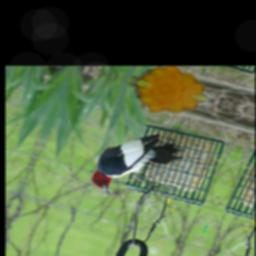Woodpecker: (86, 122, 190, 209)
